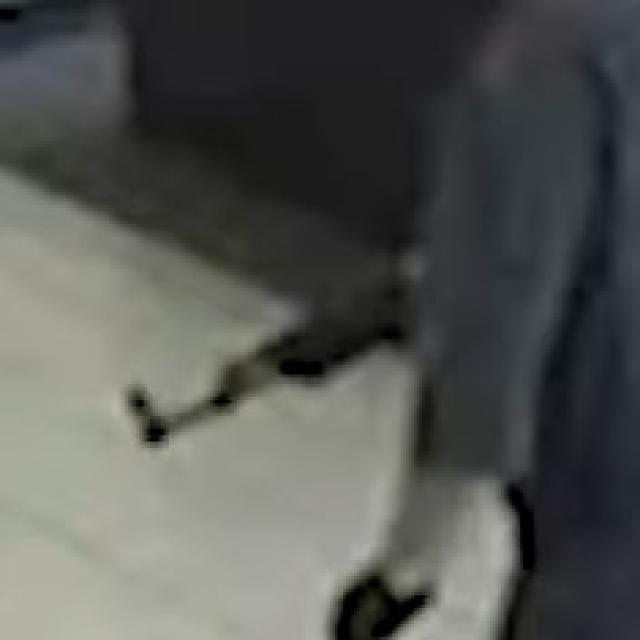weapon: (117, 248, 435, 470)
